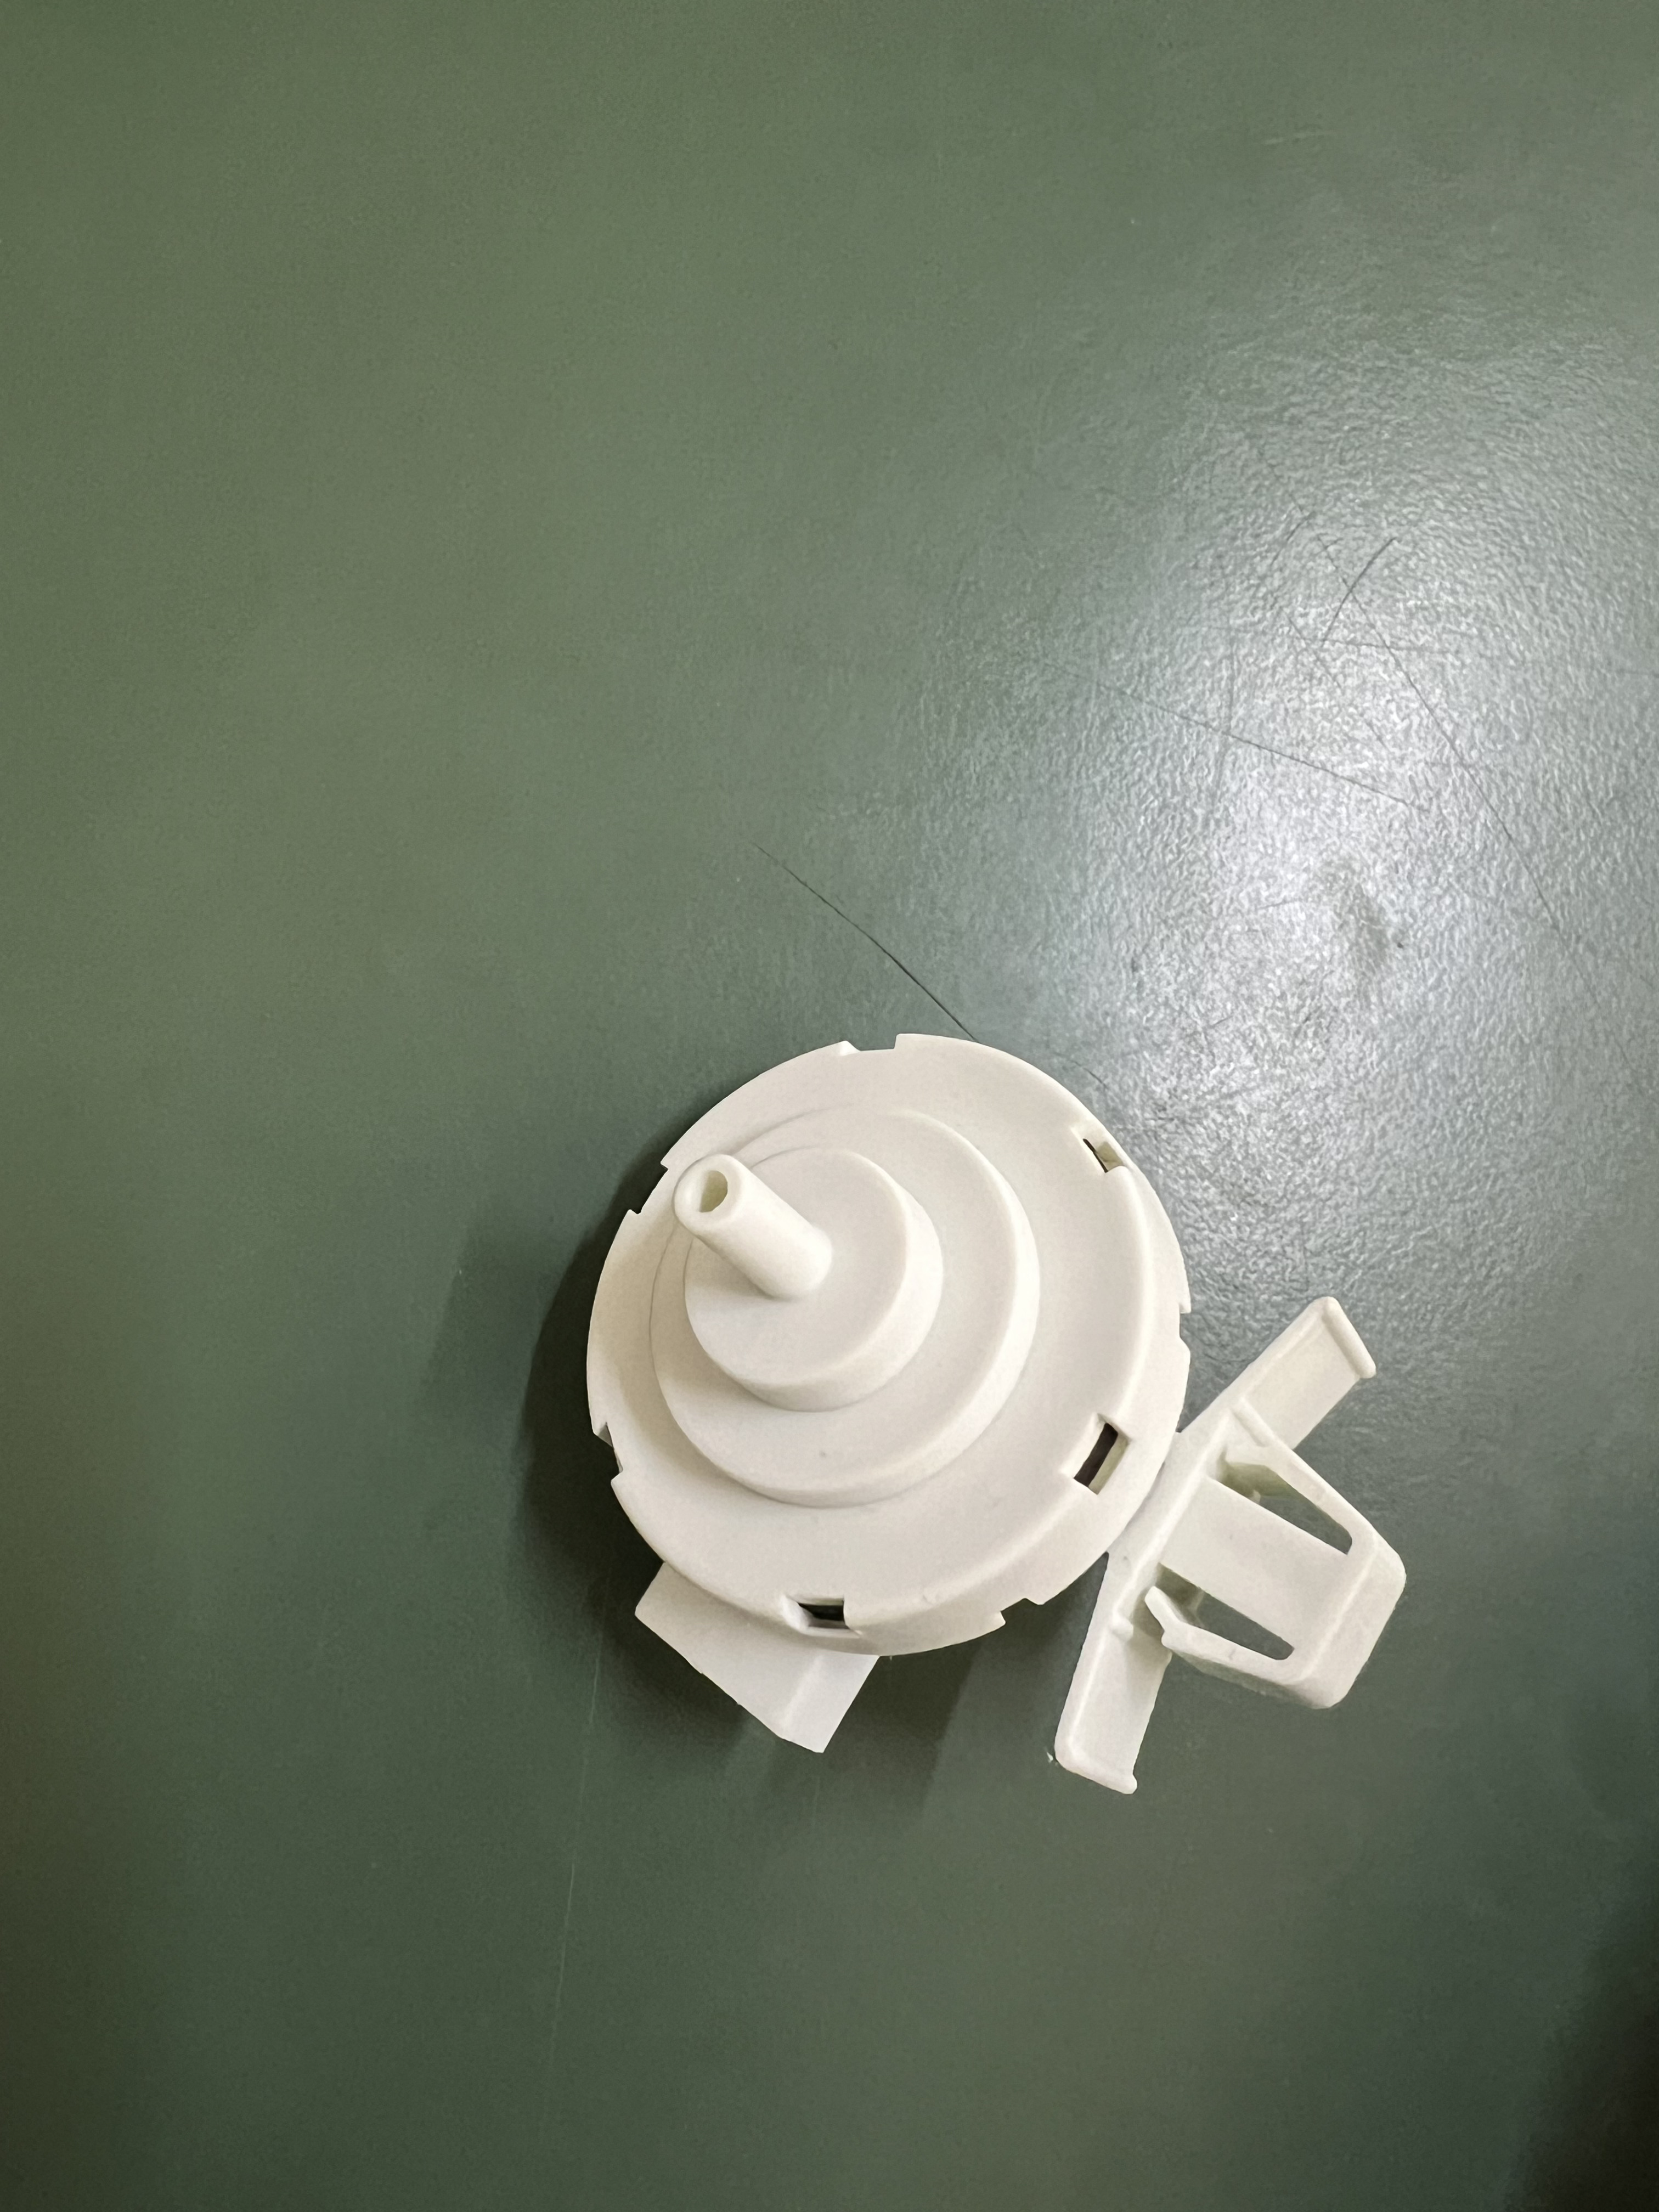pressure_switch_2: (518, 1010, 1410, 1803)
